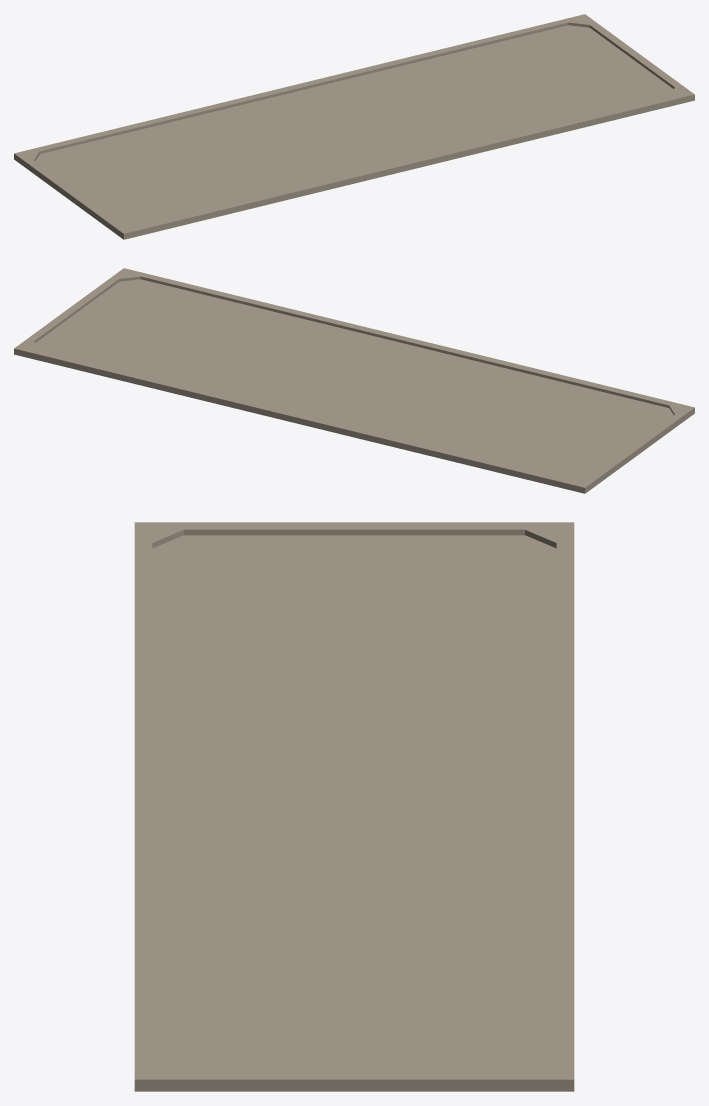
File: SMOD_Skyroad.fbx
3 views of the same model, one above another, from view 1: azimuth 30°, elevation 25°; view 2: azimuth 150°, elevation 25°; view 3: azimuth 270°, elevation 25° (orthographic). The views are drawn at different scales.
Parts seen in each view (by area): view 1: SMOD_Skyroad; view 2: SMOD_Skyroad; view 3: SMOD_Skyroad.
Part boxes in pixels (x1=…): SMOD_Skyroad: x1=14, y1=14, x2=694, y2=239; SMOD_Skyroad: x1=14, y1=268, x2=694, y2=493; SMOD_Skyroad: x1=134, y1=522, x2=574, y2=1091.
Size of the model in its own units: 3000 by 30 by 1000.
